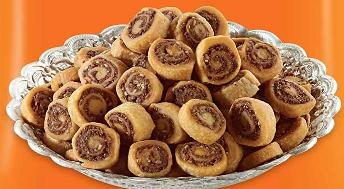bhakarwadi: (18, 8, 311, 173)
